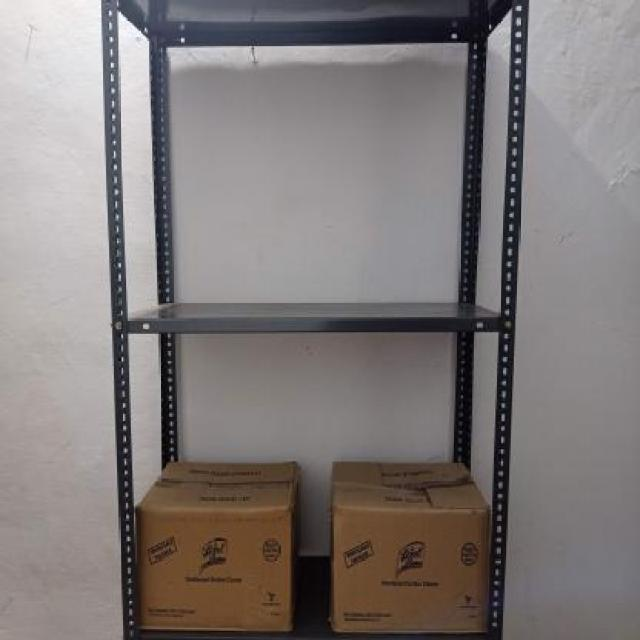box: (334, 506, 490, 631), (140, 504, 294, 630)
